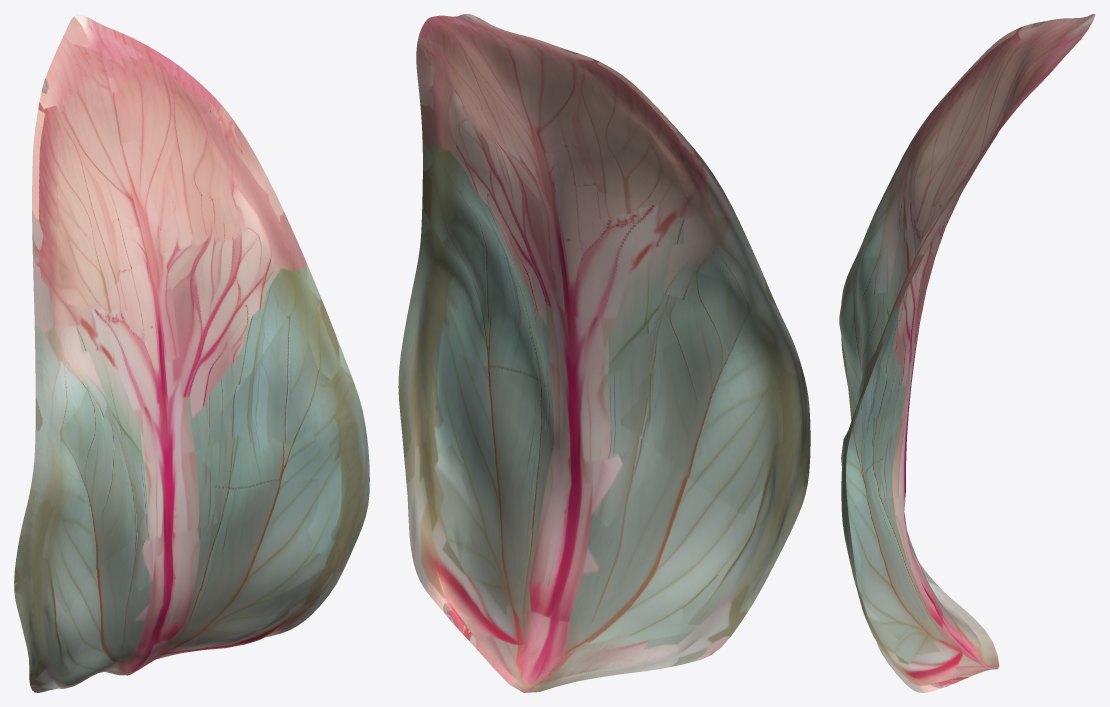
The model's file is bigleaf.glb.
The picture shows the model from 3 angles, left to right: view 1: azimuth 30°, elevation 25°; view 2: azimuth 150°, elevation 25°; view 3: azimuth 270°, elevation 25°; orthographic projection. The views are drawn at different scales.
Visible parts, largest first — view 1: geometry_0; view 2: geometry_0; view 3: geometry_0.
Part boxes in pixels (left/top/right/bottom): geometry_0: left=14, top=14, right=369, bottom=692; geometry_0: left=398, top=14, right=810, bottom=692; geometry_0: left=839, top=14, right=1095, bottom=692.
Bounding box in the file's own units: 0.5967 × 1 × 0.3557.
Materials: 1 (1 with a texture image).
